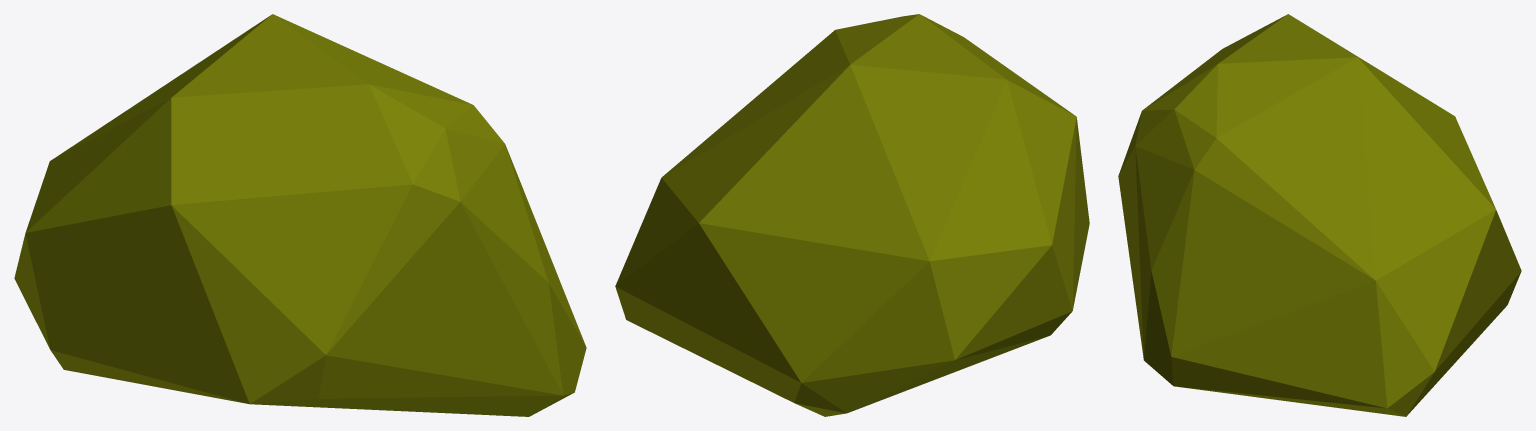
File: bush-5.glb
3 views of the same model, side by side, from view 1: azimuth 30°, elevation 25°; view 2: azimuth 150°, elevation 25°; view 3: azimuth 270°, elevation 25° (orthographic). The views are drawn at different scales.
Visible parts, largest first — view 1: Bush 5; view 2: Bush 5; view 3: Bush 5.
Boxes of the visible parts, bbox=[...] form: Bush 5: bbox=[14, 14, 586, 416]; Bush 5: bbox=[615, 14, 1089, 416]; Bush 5: bbox=[1118, 14, 1521, 416].
Size of the model in its own units: 3.74 by 2.53 by 3.32.
